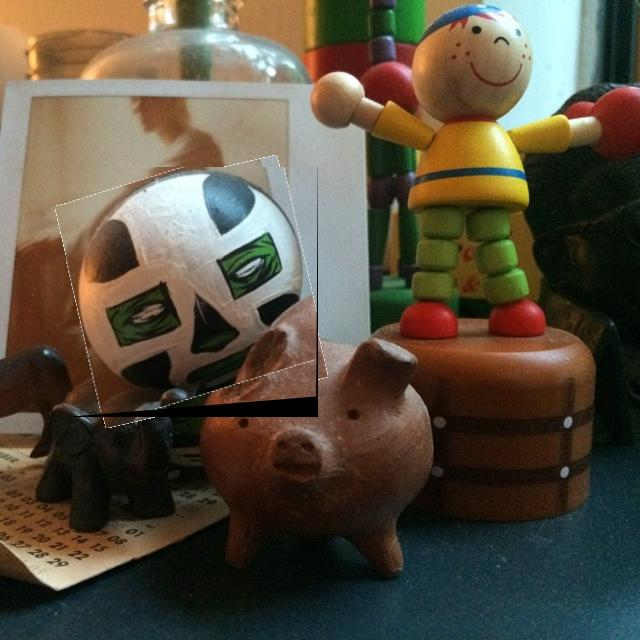Football: (66, 167, 318, 417)
